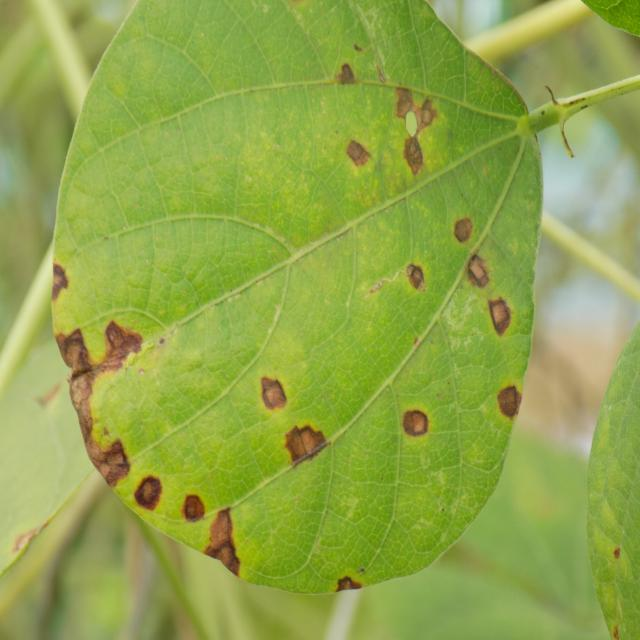Dolicos bean_cercospora leaf spot: (50, 0, 550, 592)
